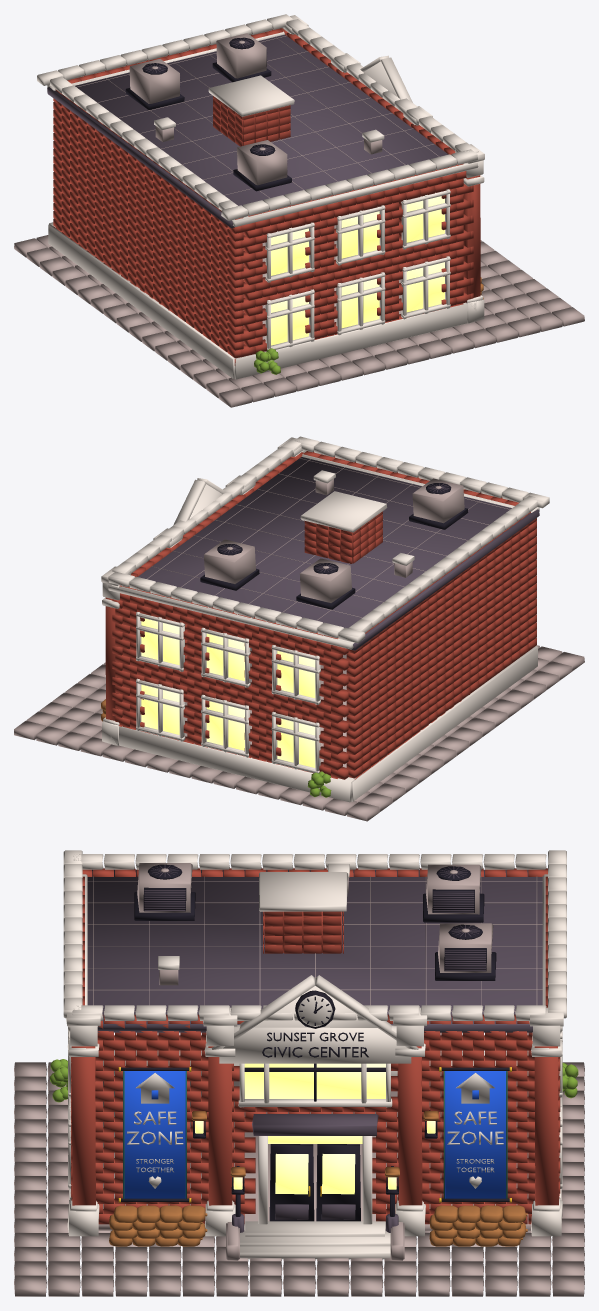
The model's file is bld.civic-center.lod2.glb.
The picture shows the model from 3 angles, top to bottom: view 1: azimuth 30°, elevation 25°; view 2: azimuth 150°, elevation 25°; view 3: azimuth 270°, elevation 25°; orthographic projection. The views are drawn at different scales.
Parts seen in each view (by area): view 1: emitter:root:37, roof; view 2: emitter:root:37, roof; view 3: emitter:root:37, roof, emitter:door_R:35, emitter:door_L:34, interior.
Part boxes in pixels (box(x1,y1,x2,y2)): emitter:root:37: box(14, 15, 584, 407); roof: box(37, 14, 478, 228); emitter:root:37: box(14, 437, 584, 821); roof: box(108, 436, 549, 650); emitter:root:37: box(14, 868, 584, 1296); roof: box(63, 850, 566, 1032); emitter:door_R:35: box(316, 1144, 360, 1221); emitter:door_L:34: box(269, 1144, 314, 1221); interior: box(98, 1081, 531, 1230).
Size of the model in its own units: 13.58 by 7.39 by 14.43.
